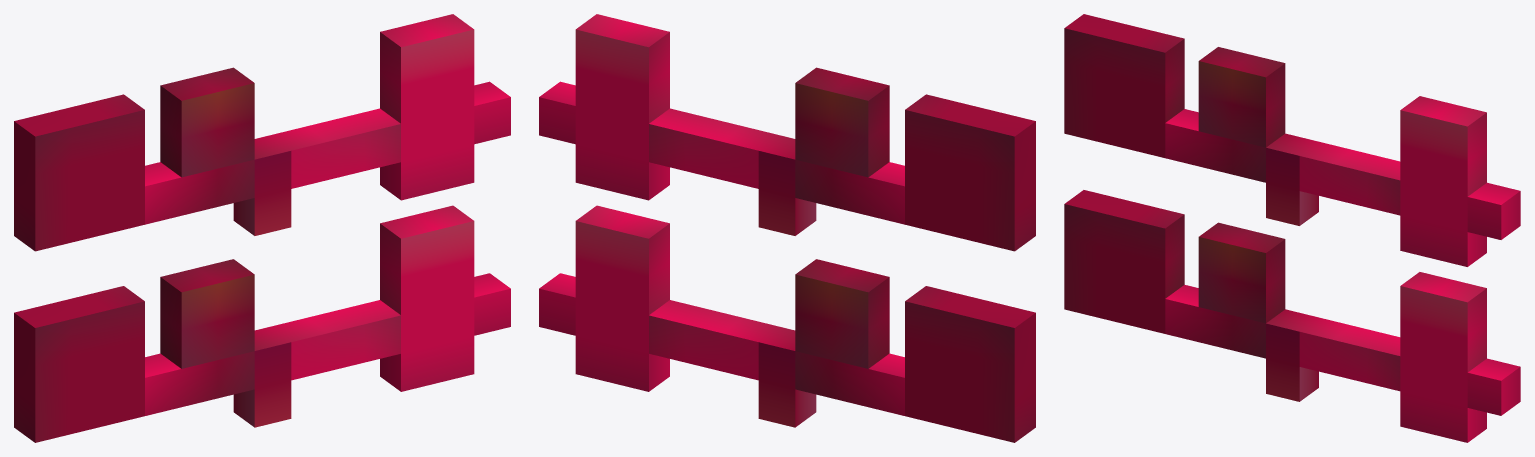
File: BillboardModule_ChineseSymbol_K_00.fbx
3 views of the same model, side by side, from view 1: azimuth 30°, elevation 25°; view 2: azimuth 150°, elevation 25°; view 3: azimuth 330°, elevation 25° (orthographic). The views are drawn at different scales.
Parts seen in each view (by area): view 1: BillboardModule_ChineseSymbol_K_00; view 2: BillboardModule_ChineseSymbol_K_00; view 3: BillboardModule_ChineseSymbol_K_00.
Part boxes in pixels (x1,y1,x2,y2): BillboardModule_ChineseSymbol_K_00: [14, 14, 510, 442]; BillboardModule_ChineseSymbol_K_00: [539, 14, 1035, 442]; BillboardModule_ChineseSymbol_K_00: [1064, 14, 1520, 442].
Size of the model in its own units: 65 by 45 by 5.
